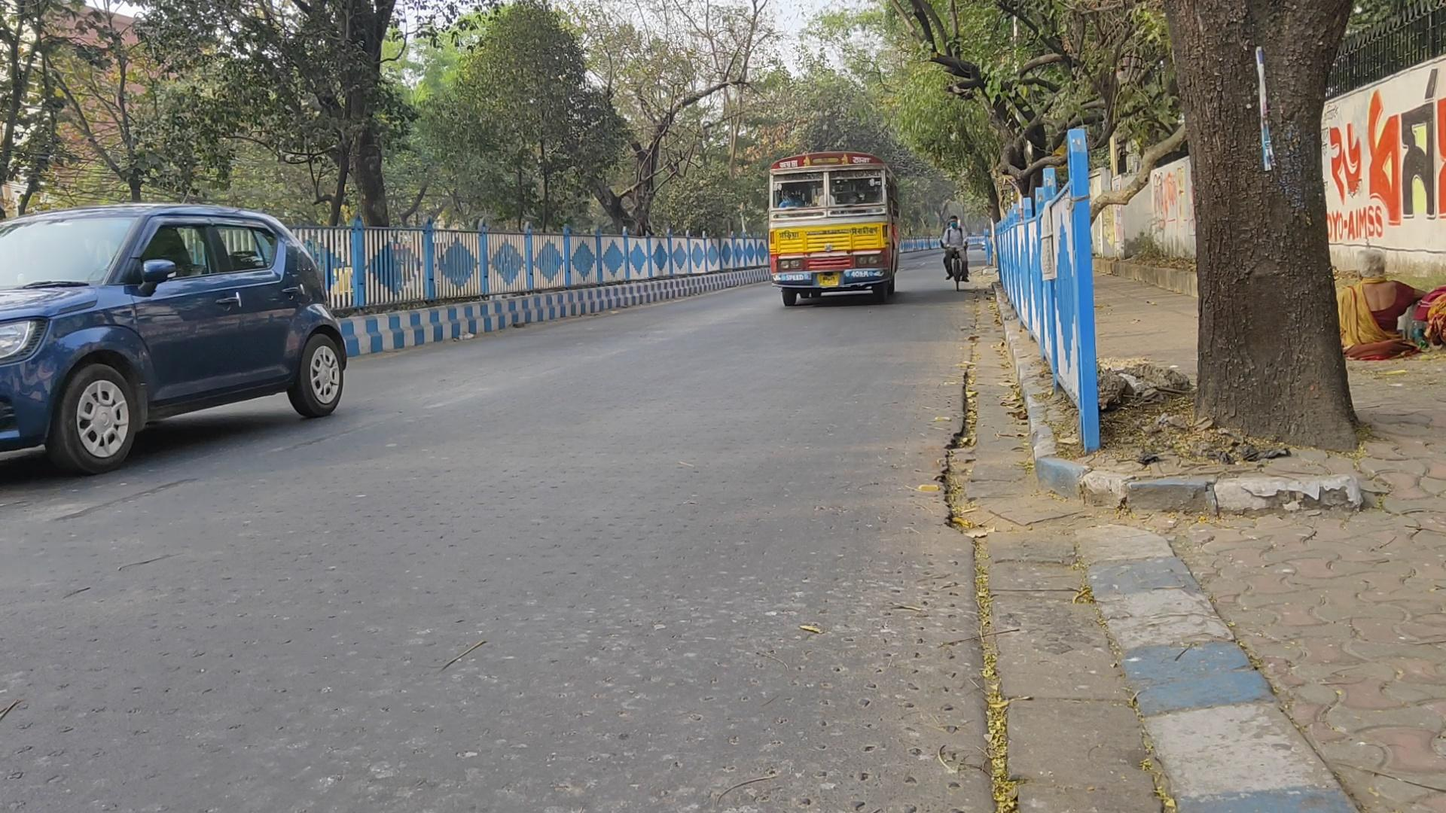Bus: (768, 151, 902, 308)
bike: (941, 213, 972, 291)
car: (2, 202, 346, 472)
